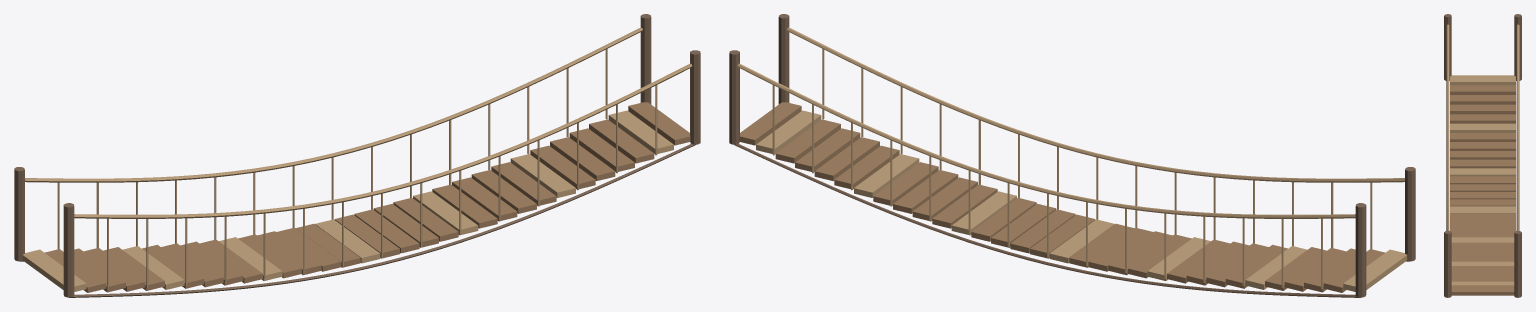
File: Bridge_Rope_Complete_Long_12m.fbx
3 views of the same model, side by side, from view 1: azimuth 30°, elevation 25°; view 2: azimuth 150°, elevation 25°; view 3: azimuth 270°, elevation 25° (orthographic). The views are drawn at different scales.
Visible parts, largest first — view 1: Bridge_Rope_Complete_Long_12m; view 2: Bridge_Rope_Complete_Long_12m; view 3: Bridge_Rope_Complete_Long_12m.
Part boxes in pixels (<box>): Bridge_Rope_Complete_Long_12m: <box>14,14,700,297</box>; Bridge_Rope_Complete_Long_12m: <box>729,14,1415,297</box>; Bridge_Rope_Complete_Long_12m: <box>1444,14,1521,297</box>.
Size of the model in its own units: 1218 by 249 by 182.
